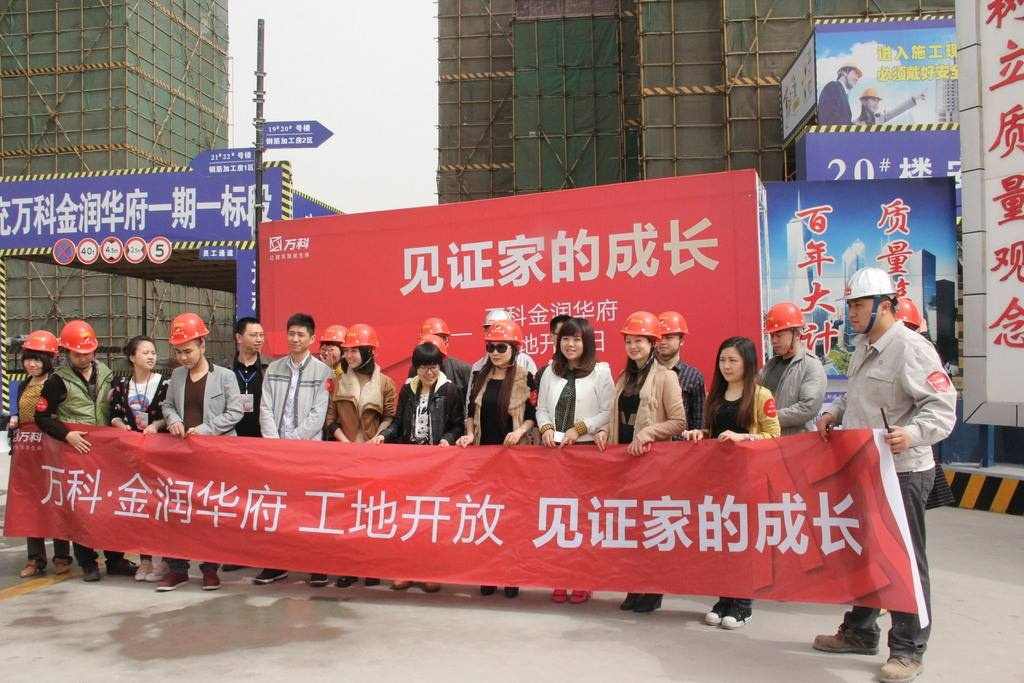none: (710, 335, 757, 385), (551, 317, 596, 369), (229, 312, 269, 358), (408, 342, 447, 386), (123, 334, 161, 375)
red: (760, 300, 810, 357), (166, 311, 212, 369), (15, 329, 61, 380), (481, 318, 525, 368), (617, 311, 659, 363), (651, 310, 692, 361), (60, 317, 98, 372), (339, 322, 377, 368), (316, 325, 348, 365)
white: (839, 264, 901, 336)
